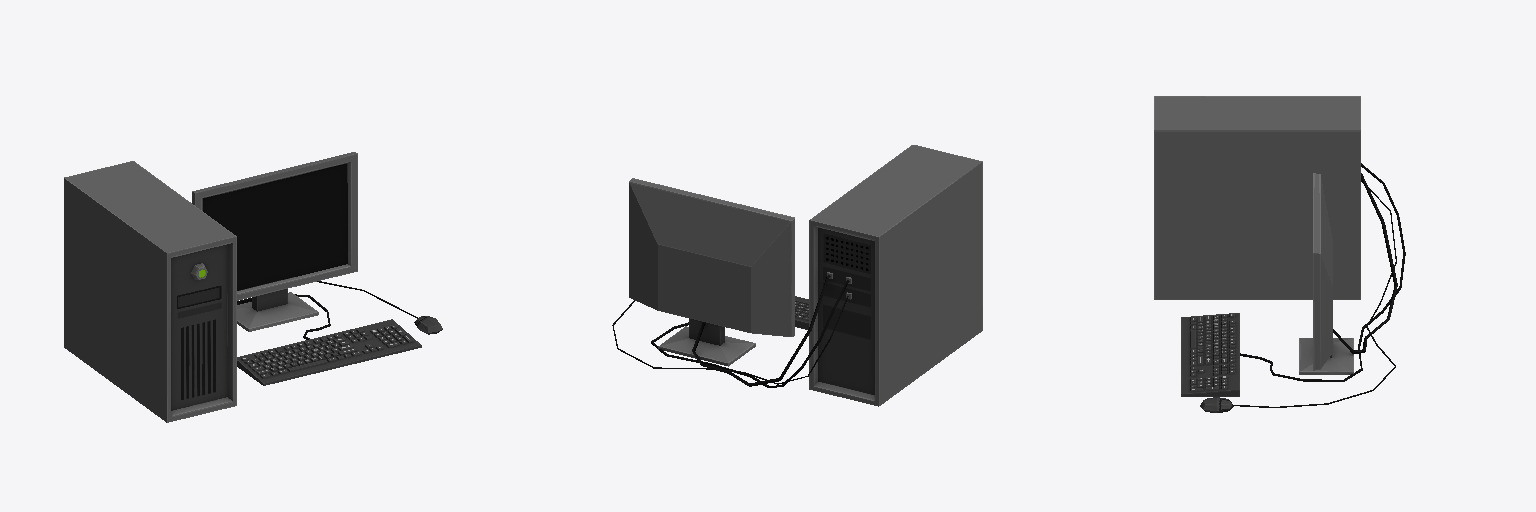
3 renders of one model, left to right at view 1: azimuth 30°, elevation 25°; view 2: azimuth 150°, elevation 25°; view 3: azimuth 270°, elevation 25°, orthographic.
Visible parts, largest first — view 1: Computer_mesh; view 2: Computer_mesh; view 3: Computer_mesh.
Boxes of the visible parts, box(x1,y1,x2,y2) form: Computer_mesh: box(64, 152, 442, 422); Computer_mesh: box(612, 145, 982, 406); Computer_mesh: box(1154, 96, 1405, 412).
Size of the model in its own units: 9.84 by 5.3 by 7.06.
1 materials, 1 textured.